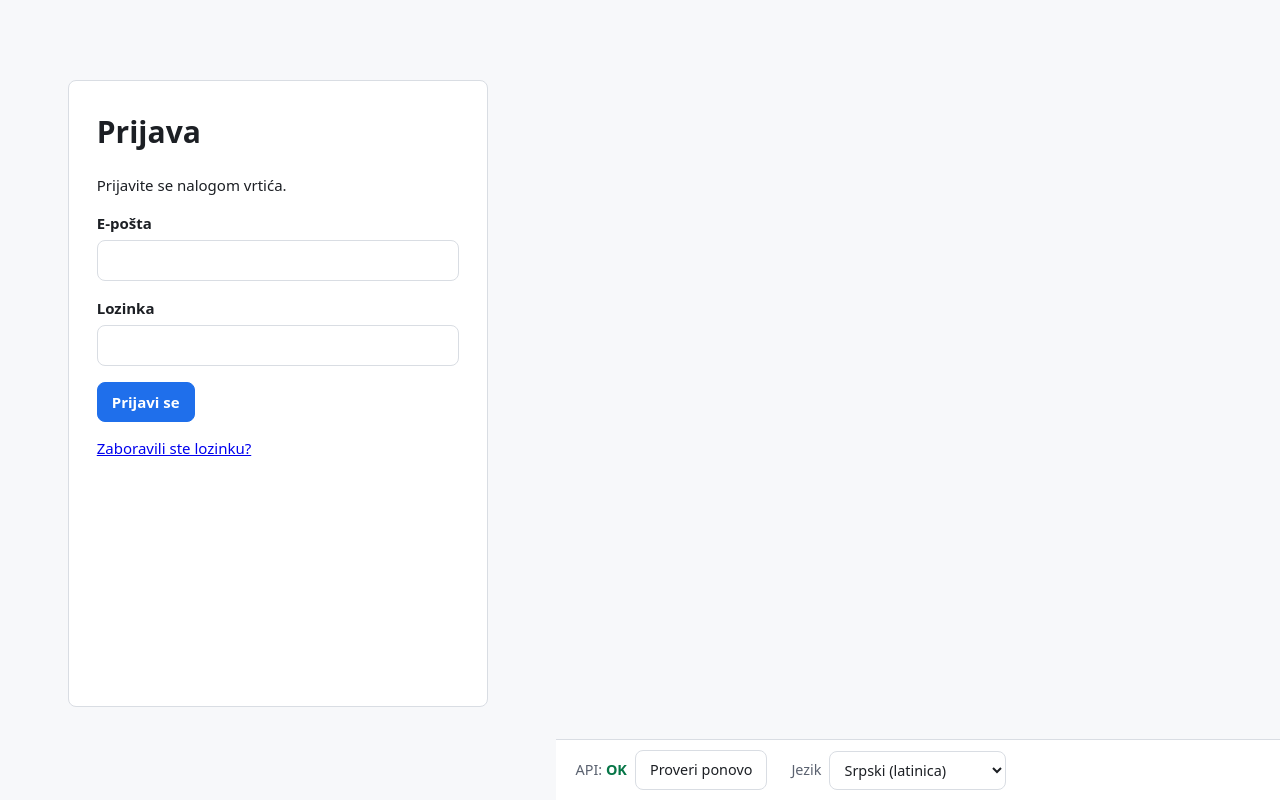
LoginPage › shows a generic message when the request never reaches the server
Type "admin@vrtic.example" into the field labelled "E-pošta" at (278, 260), box x1=97 y1=240 x2=459 y2=281
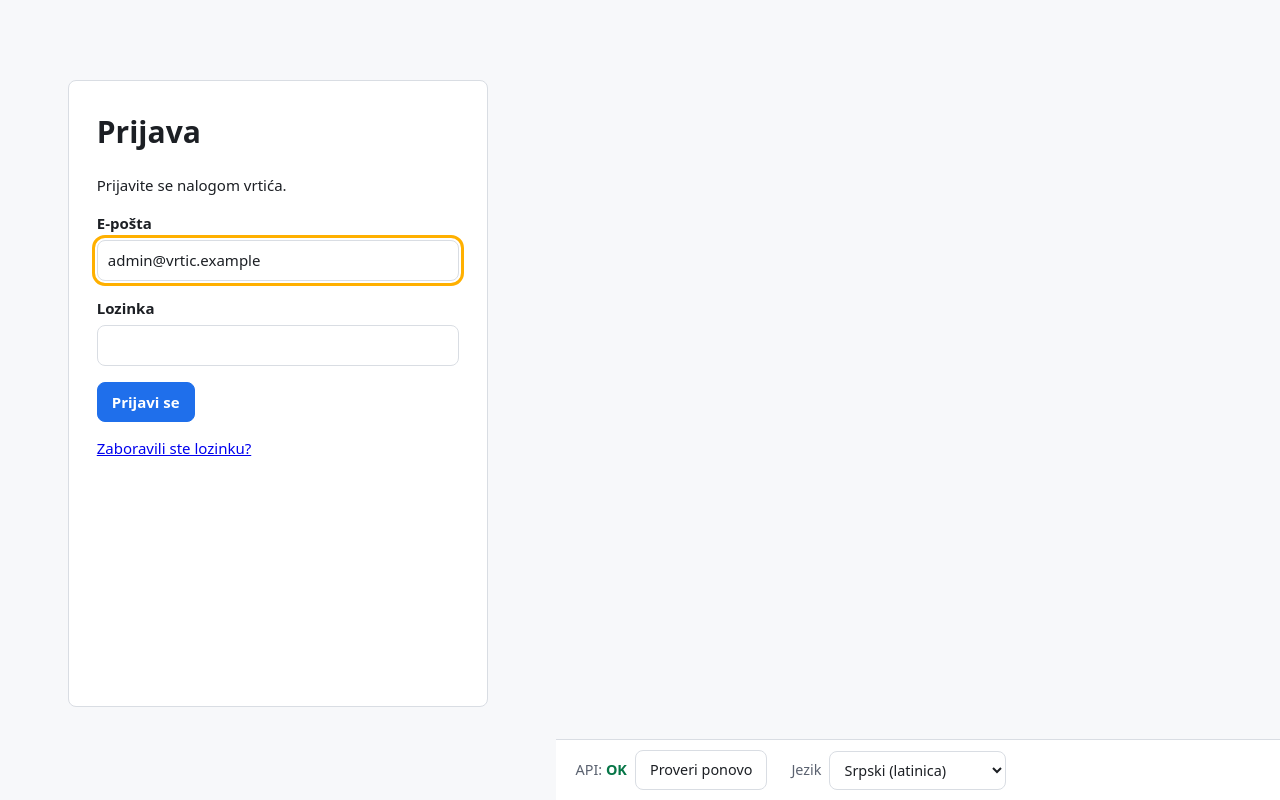
Type "tajna-lozinka" into the password field labelled "Lozinka" at (278, 345), box x1=97 y1=325 x2=459 y2=366
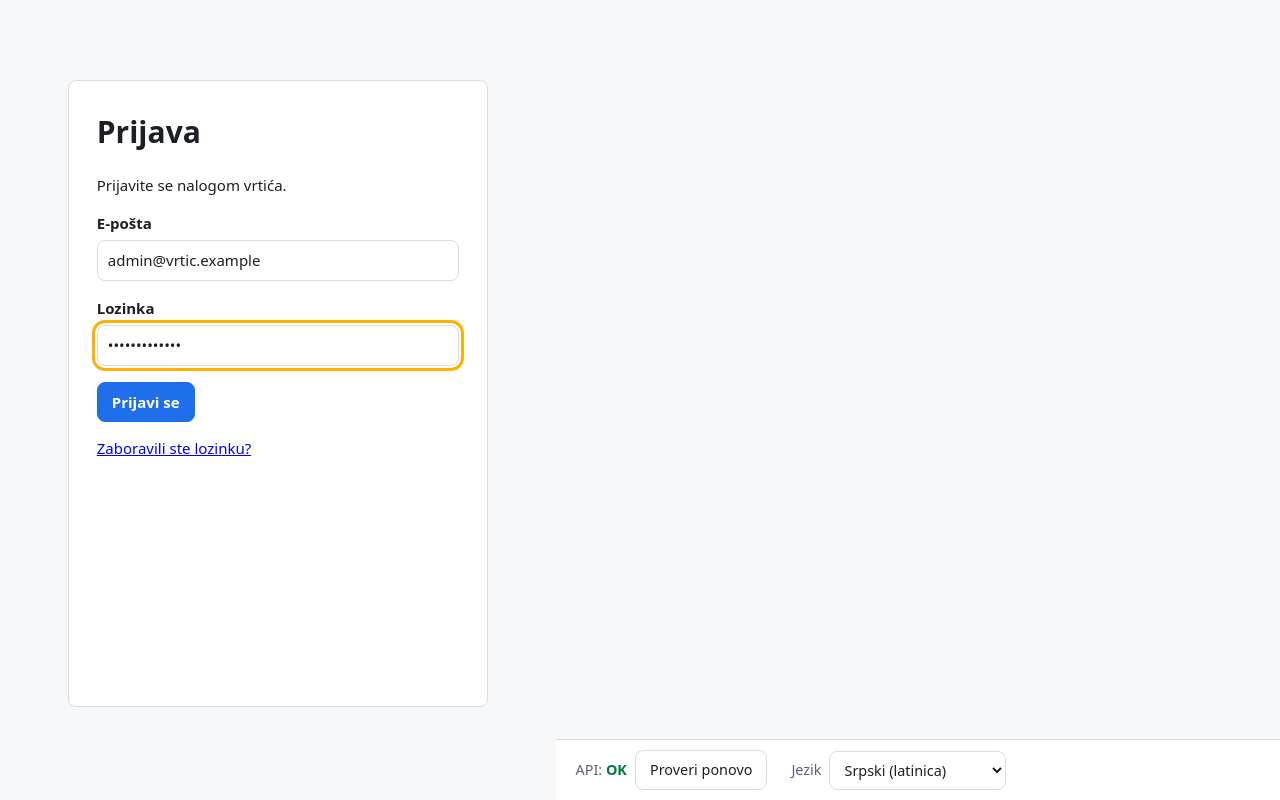
Click the button "Prijavi se" at (146, 402), box x1=97 y1=382 x2=195 y2=422
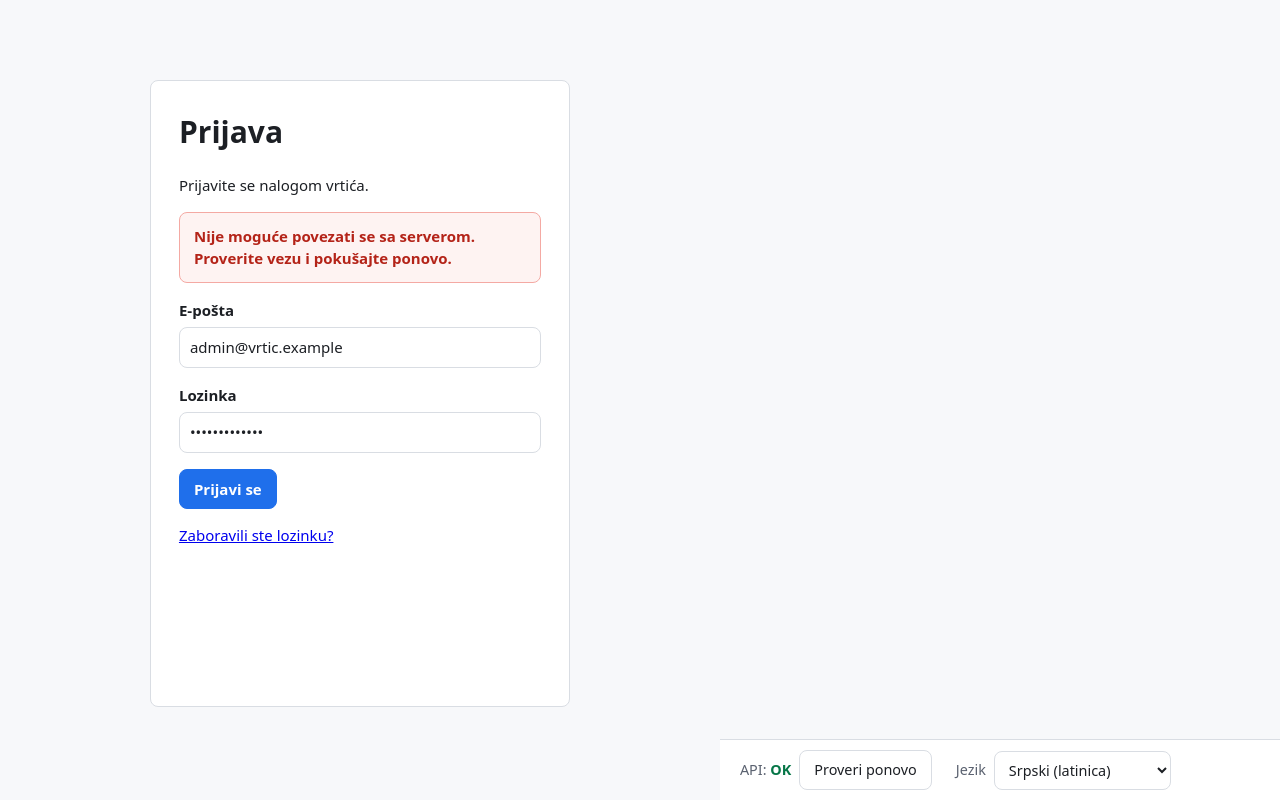
Check: the message "Nije moguće povezati se sa serverom. Proverite vezu i pokušajte ponovo." does not show "Failed to fetch", box x1=179 y1=212 x2=541 y2=283
Check: the message "Nije moguće povezati se sa serverom. Proverite vezu i pokušajte ponovo." is shown, box x1=179 y1=212 x2=541 y2=283
